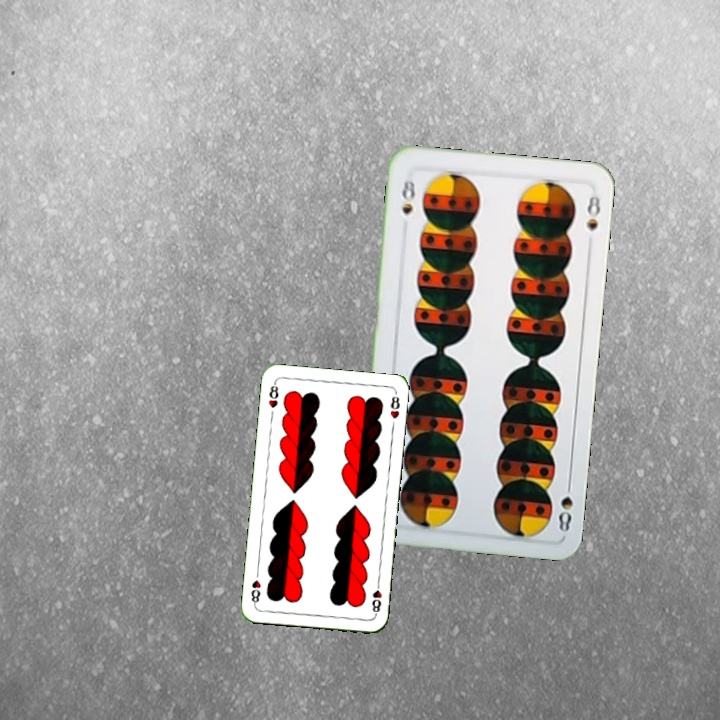H8: (368, 577, 384, 618), (265, 378, 281, 411)
S8: (554, 476, 575, 535), (397, 174, 418, 217)
